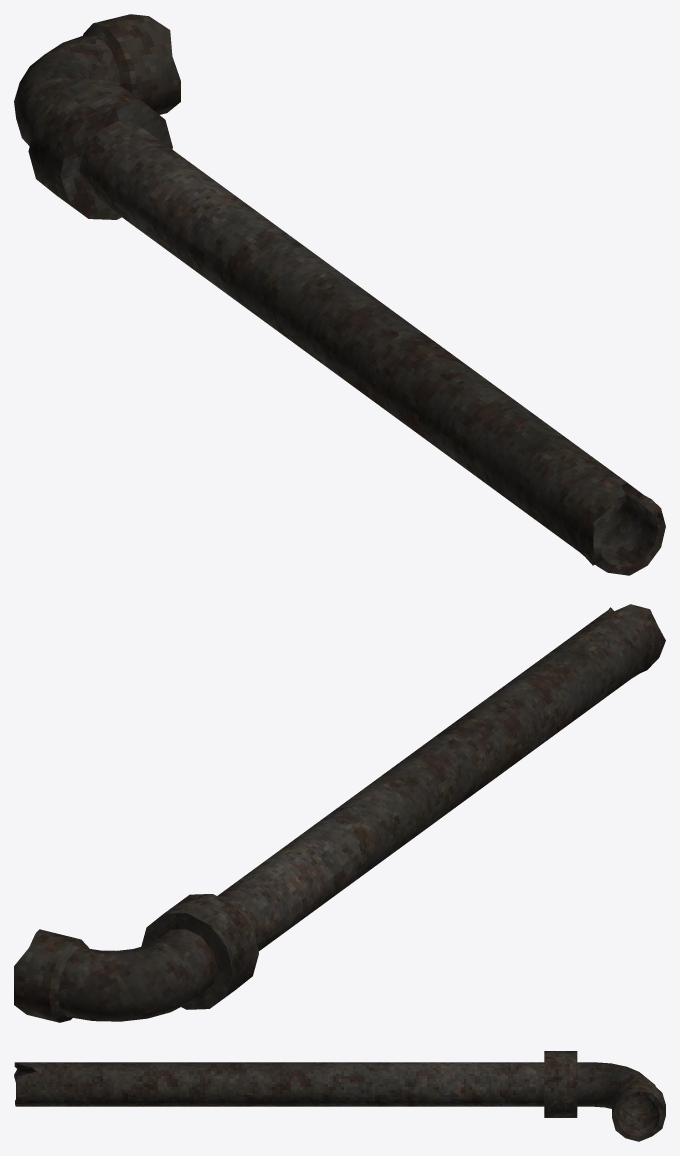
Rendered from pipe_melee_mx_1.glb.
3 views of the same model, one above another, from view 1: azimuth 30°, elevation 25°; view 2: azimuth 150°, elevation 25°; view 3: azimuth 270°, elevation 25° (orthographic). The views are drawn at different scales.
Visible parts, largest first — view 1: pipe_melee_mx_1; view 2: pipe_melee_mx_1; view 3: pipe_melee_mx_1.
Part boxes in pixels (x1,y1,x2,y2): pipe_melee_mx_1: (14,14,665,575); pipe_melee_mx_1: (14,604,665,1022); pipe_melee_mx_1: (14,1051,665,1141).
Bounding box in the file's own units: 0.1265 × 0.075 × 0.7293.
Materials: 1 (1 with a texture image).
